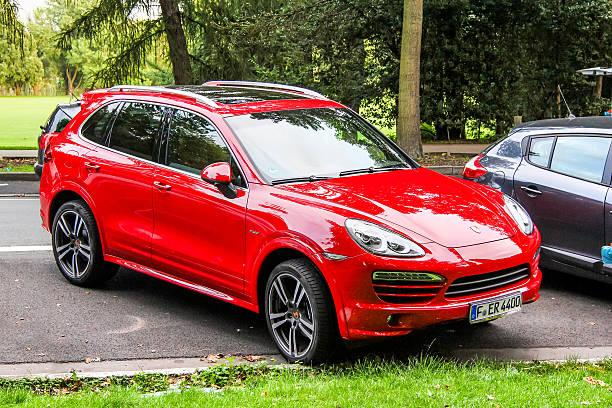porsche: (465, 219, 485, 238)
